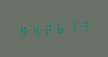four: (29, 22, 40, 38)
nine: (17, 23, 28, 39)
one: (66, 18, 77, 34)
six: (54, 20, 65, 36)
three: (78, 17, 89, 33)
two: (42, 21, 53, 37)
